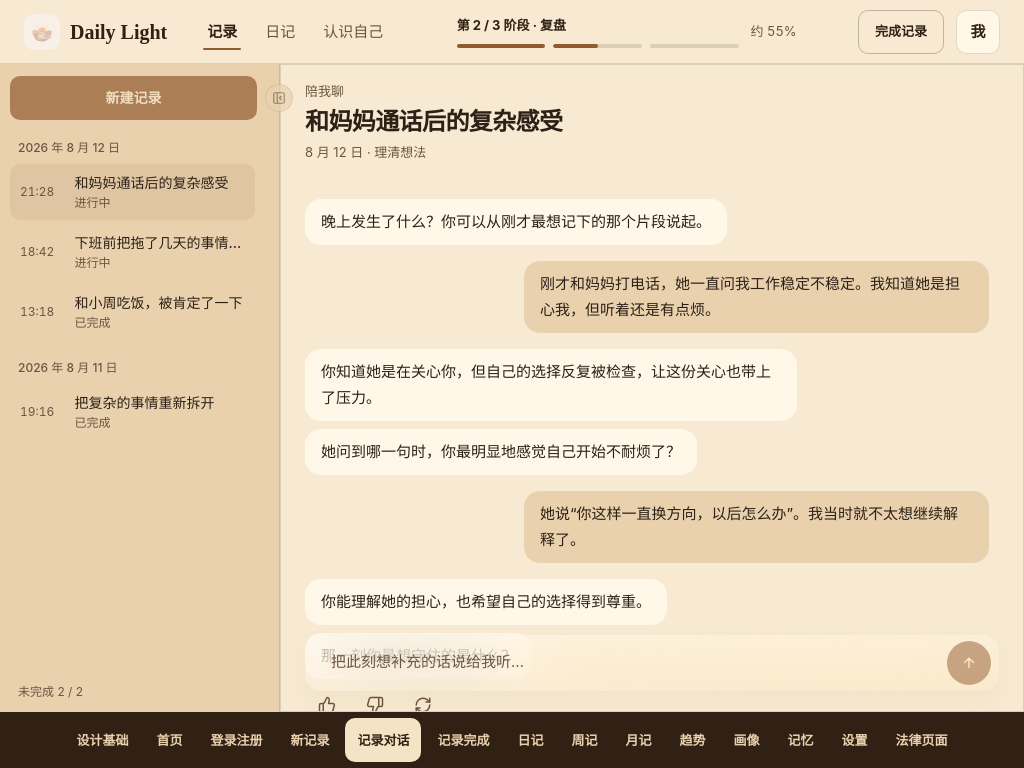
it: Daily Light 视觉验收入口 › 两条未完成记录达到上限时给出本地提示
This screenshot has width=1024, height=768.
Click the button "新建记录".
click(134, 98)  # box [10,76,257,120]
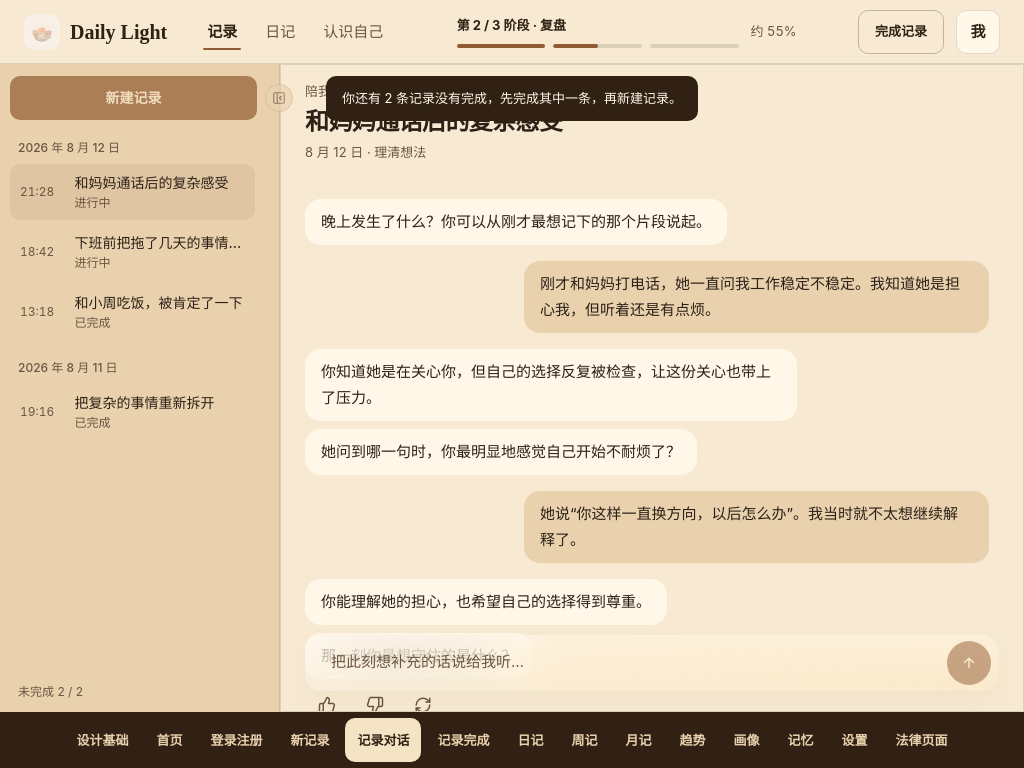
expect the message reads "你还有 2 条记录没有完成，先完成其中一条，再新建记录。": met, box [342,90,682,106]
